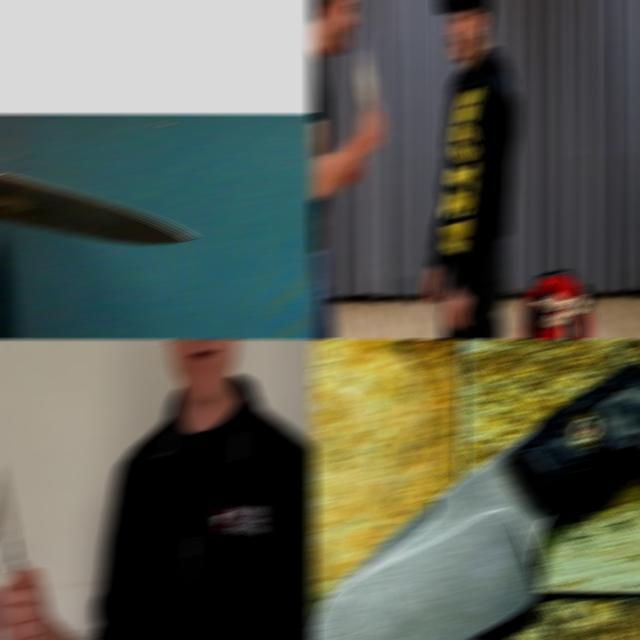Knife: (0, 174, 195, 243)
Knife_Handle: (0, 416, 50, 640), (355, 47, 389, 149)
